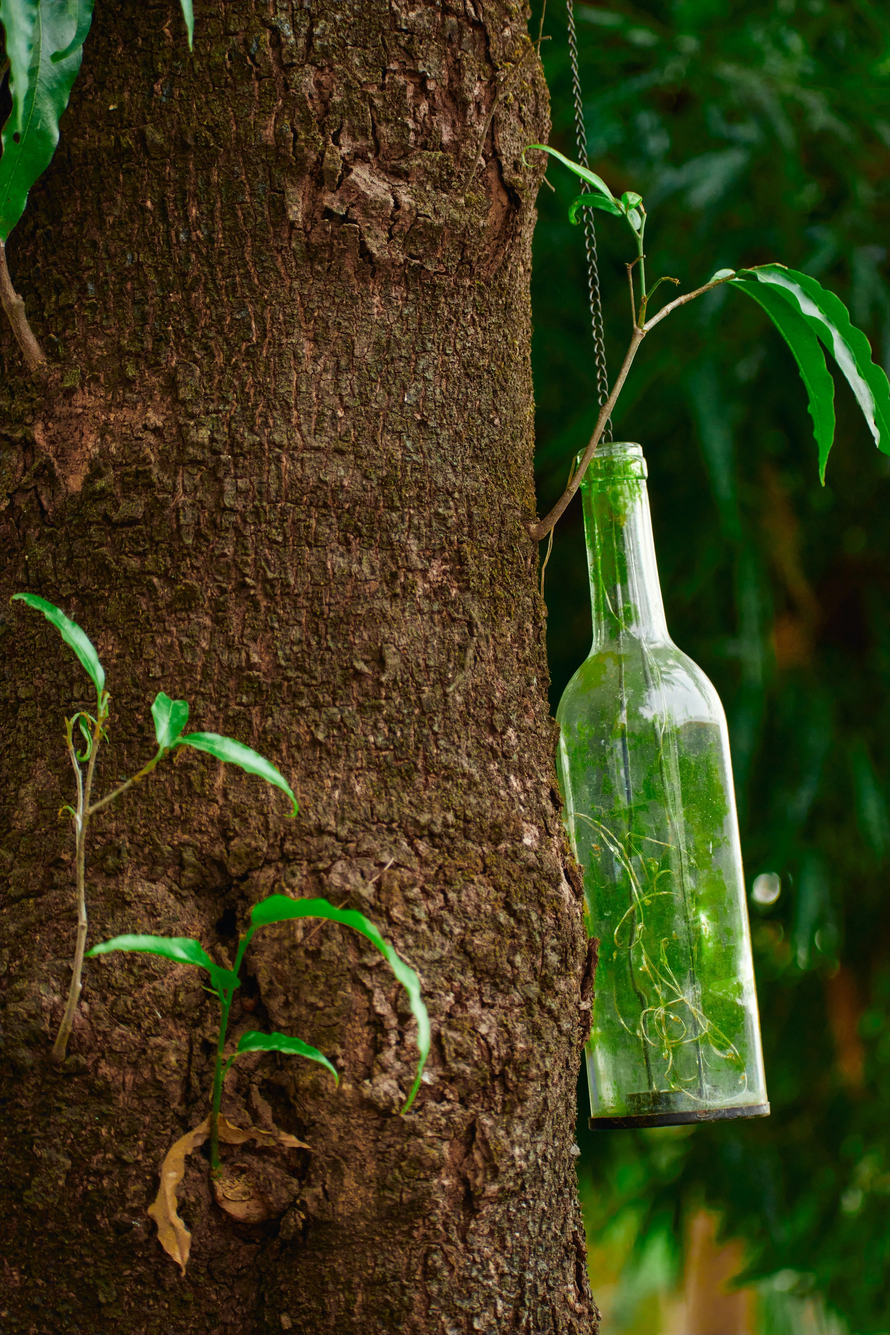Bottle-Detection: (527, 412, 812, 1175)
